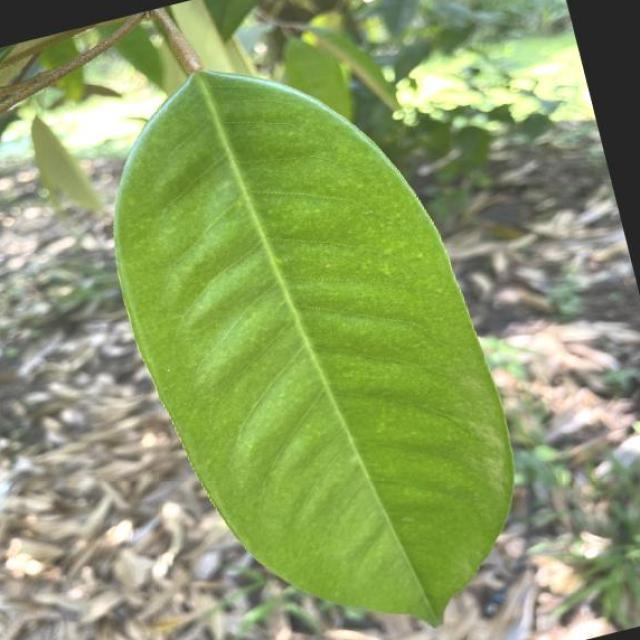No Disease: (70, 8, 568, 640)
